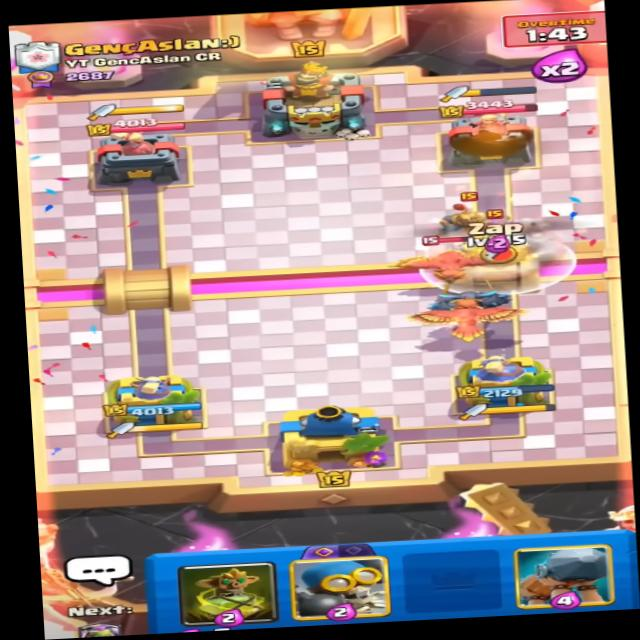phoenix: (384, 226, 507, 286)
prince: (428, 184, 510, 249)
